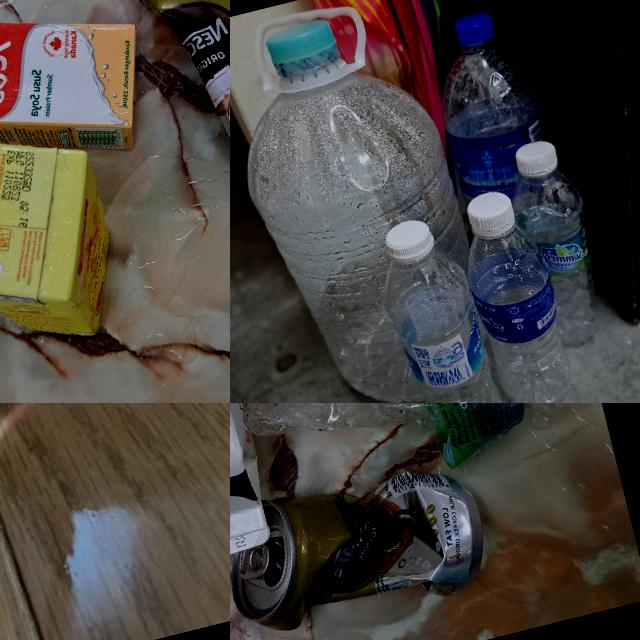aba de lata: (231, 540, 276, 580)
caixinha: (0, 0, 163, 207), (0, 119, 135, 364)
garrafa plástica: (230, 30, 503, 403), (230, 403, 608, 515), (424, 28, 564, 219), (375, 239, 510, 403), (461, 221, 580, 403), (508, 163, 618, 355)
lata: (230, 451, 497, 640), (122, 0, 230, 202)
tampa plástica: (262, 15, 339, 67), (464, 187, 518, 236), (382, 216, 436, 264), (512, 138, 560, 180), (451, 10, 496, 45)
